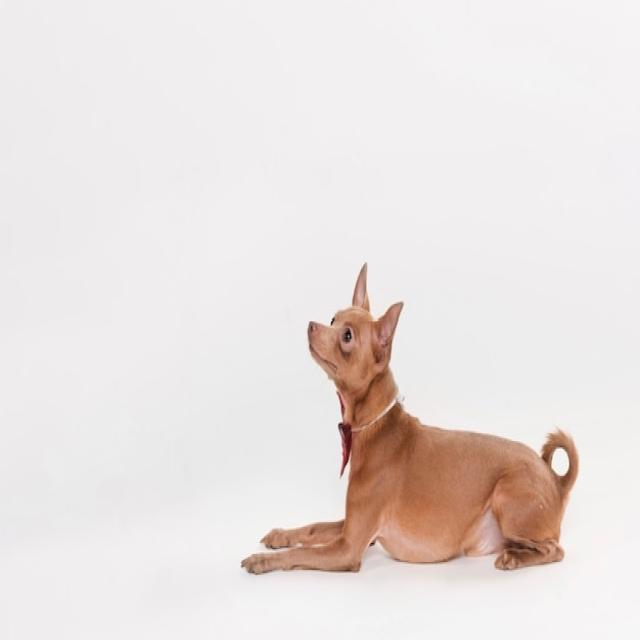Dog: (240, 260, 578, 573)
